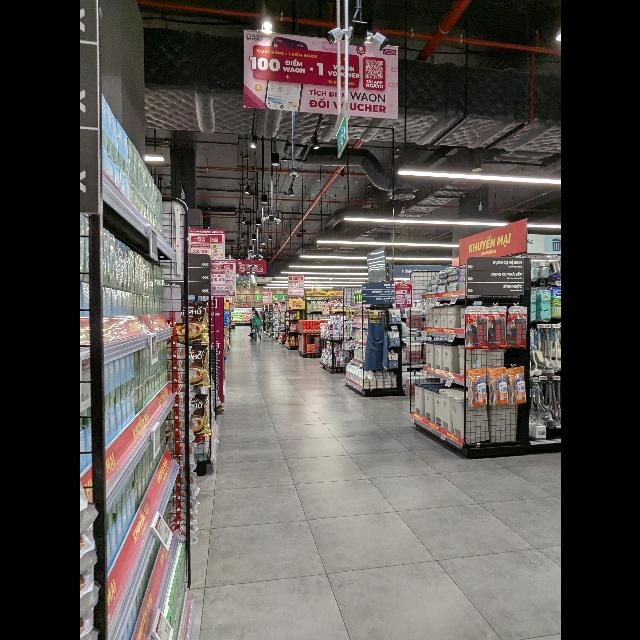exit: (336, 117, 348, 157)
